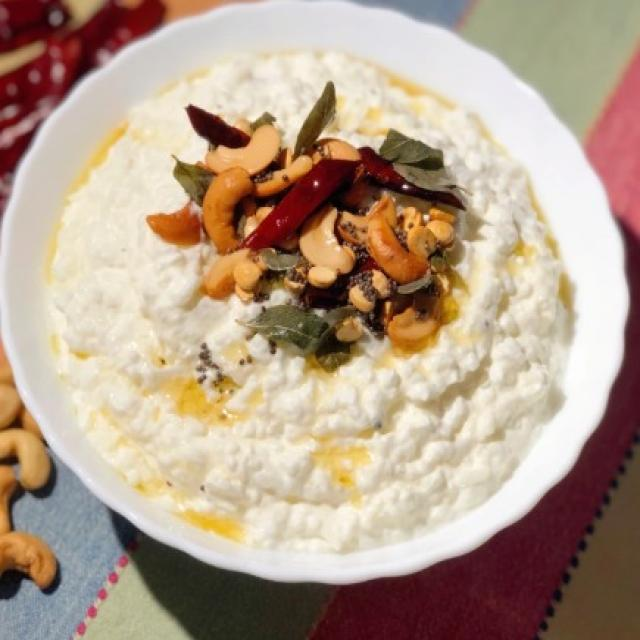CURD RICE: (48, 43, 580, 554)
